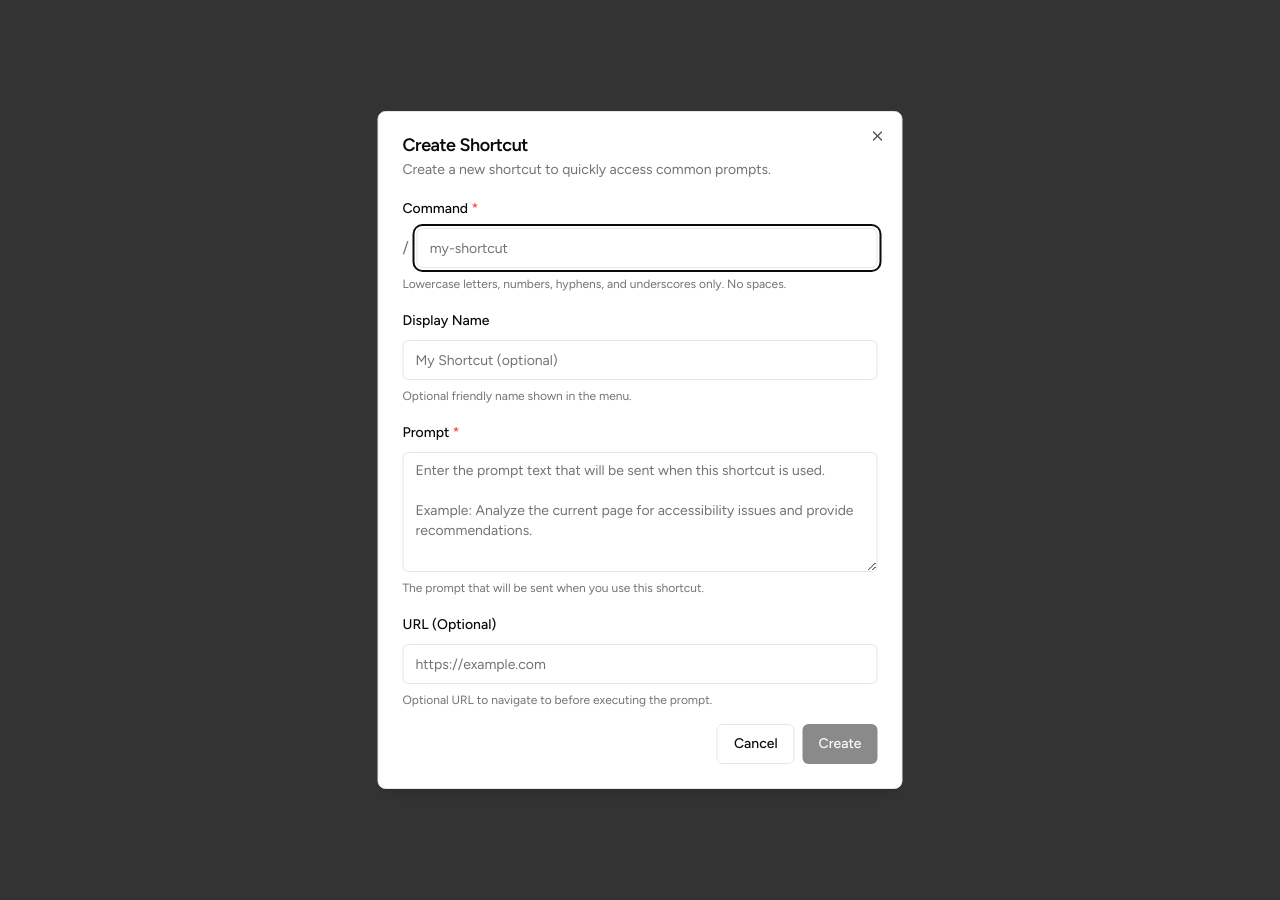
Test case: ShortcutEditor › Create Mode › handles validation errors
In the field labelled "Command *": (647, 248) [417,228,878,268], type "test"
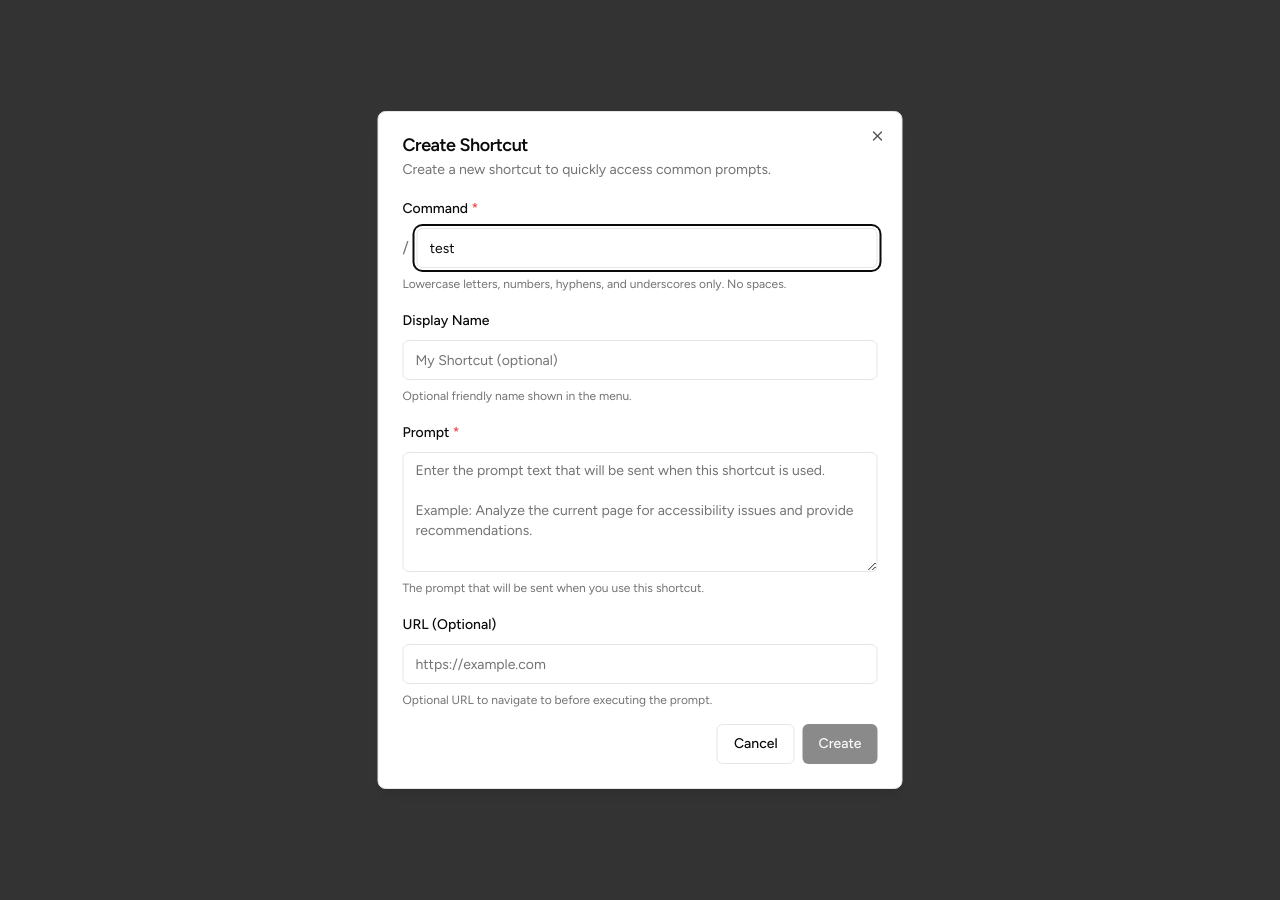
Replace the text in the text box labelled "Prompt *" with "Test prompt": (640, 512) [402,452,878,572]
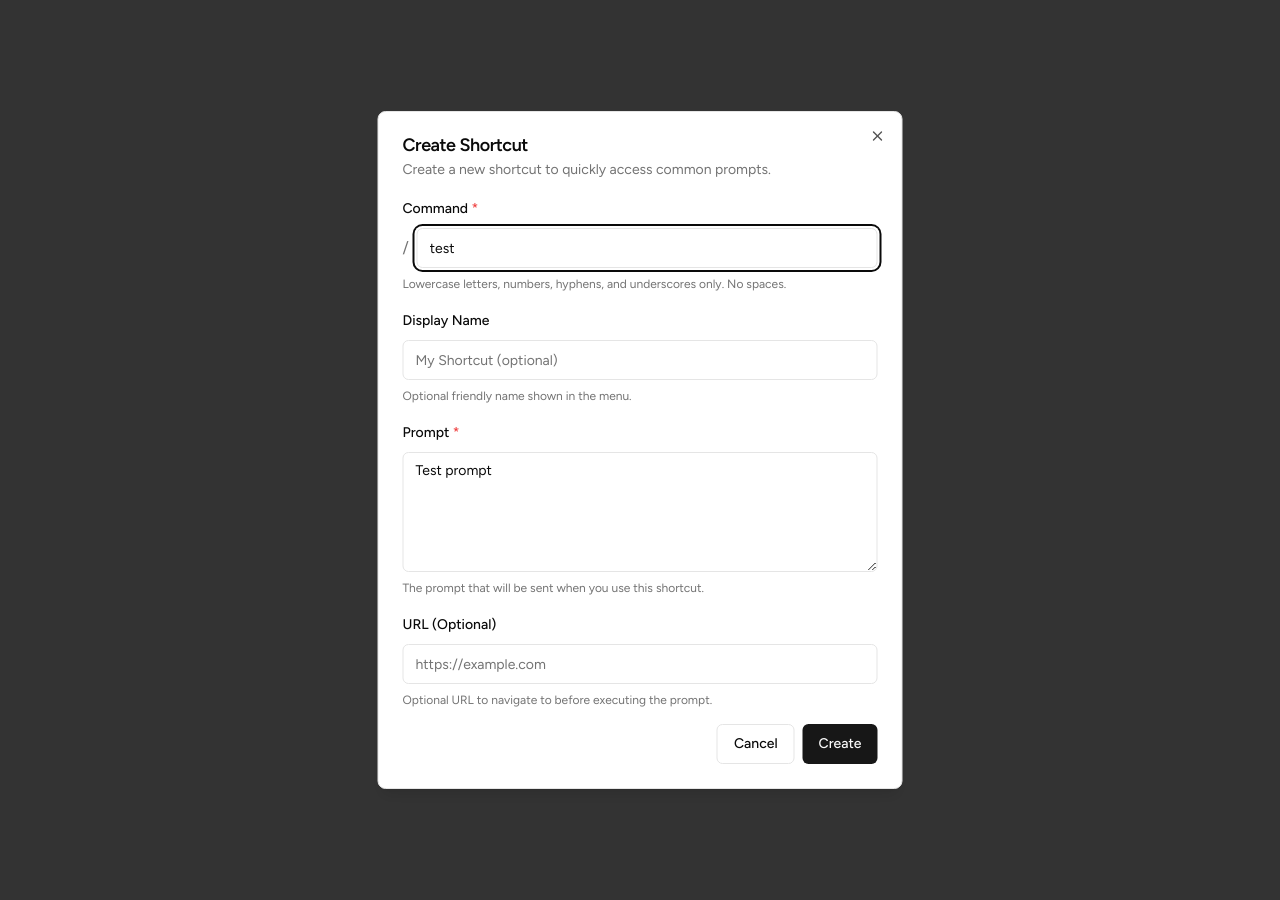
Click the button "Create": (840, 744) [803,724,878,764]
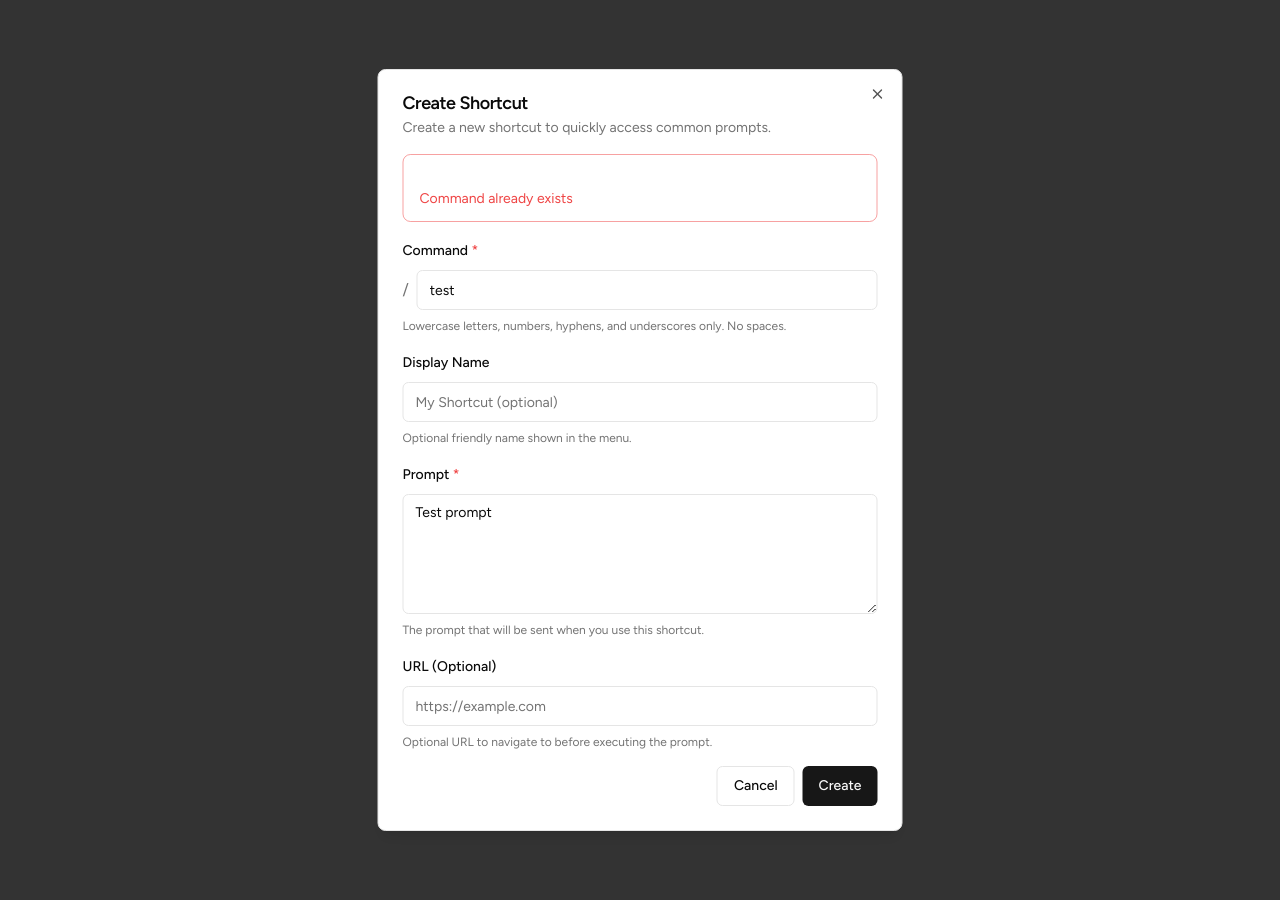
Expected: the text "Command already exists" is shown, [420,190,573,207]
